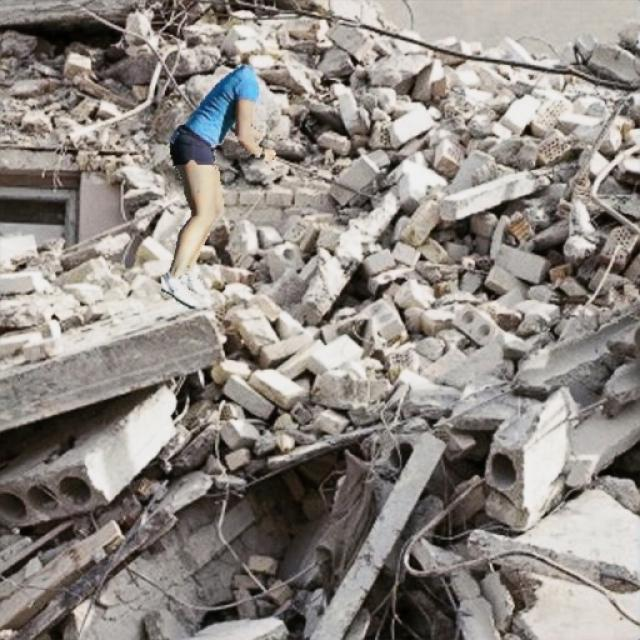Person in Rubble: (162, 64, 278, 308)
